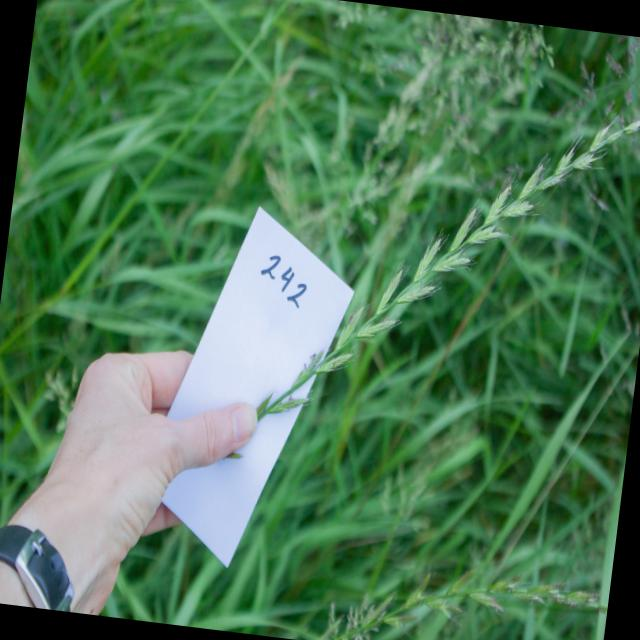Lolium: (237, 50, 640, 482)
